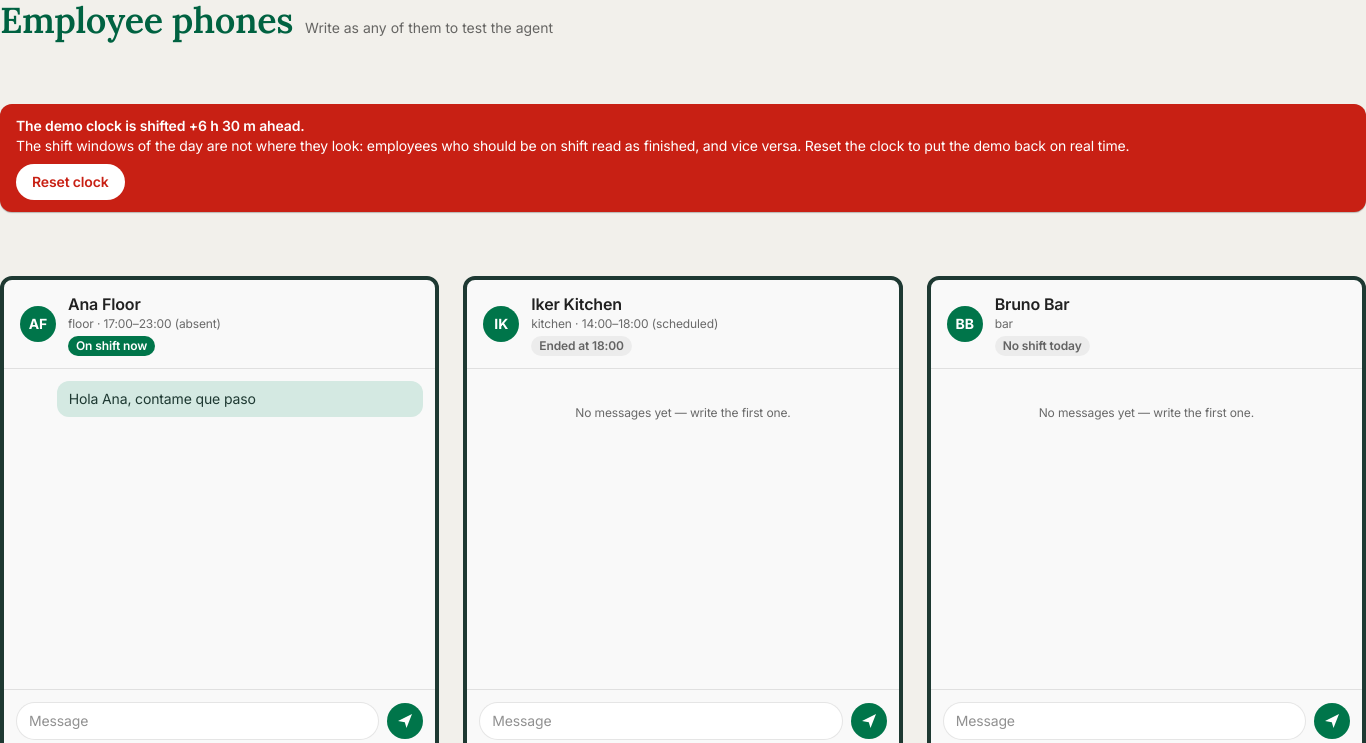
Test: SimulatorScreen (spec §7.6, real data) › resets the demo clock from the prominent warning itself
Step 1. Click the button "Reset clock" → (70, 182), box [16, 164, 125, 200]
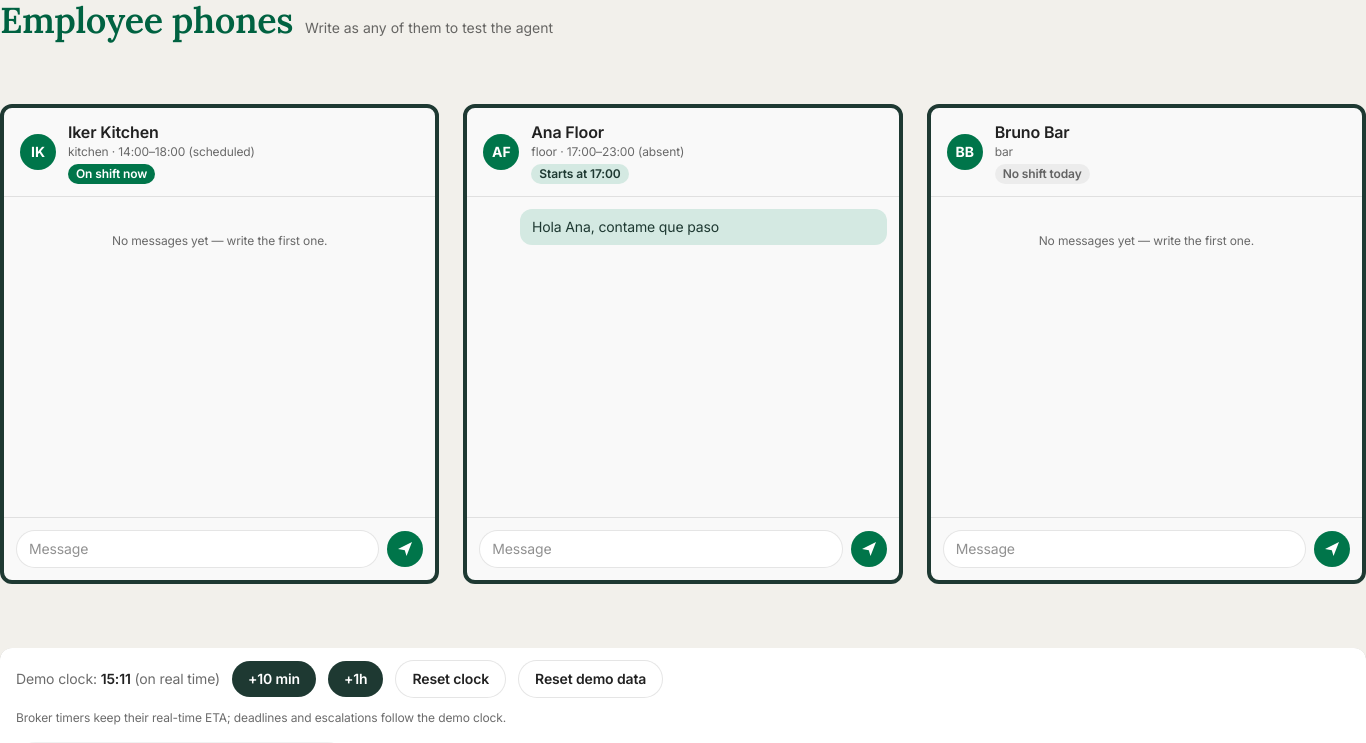
Check: the text "Demo clock: 15:11 (on real time)" is shown, box [16, 669, 220, 689]
Check: the message with test id "clock-shifted-banner" is gone
Check: the text "+6 h 30 m ahead" is gone
